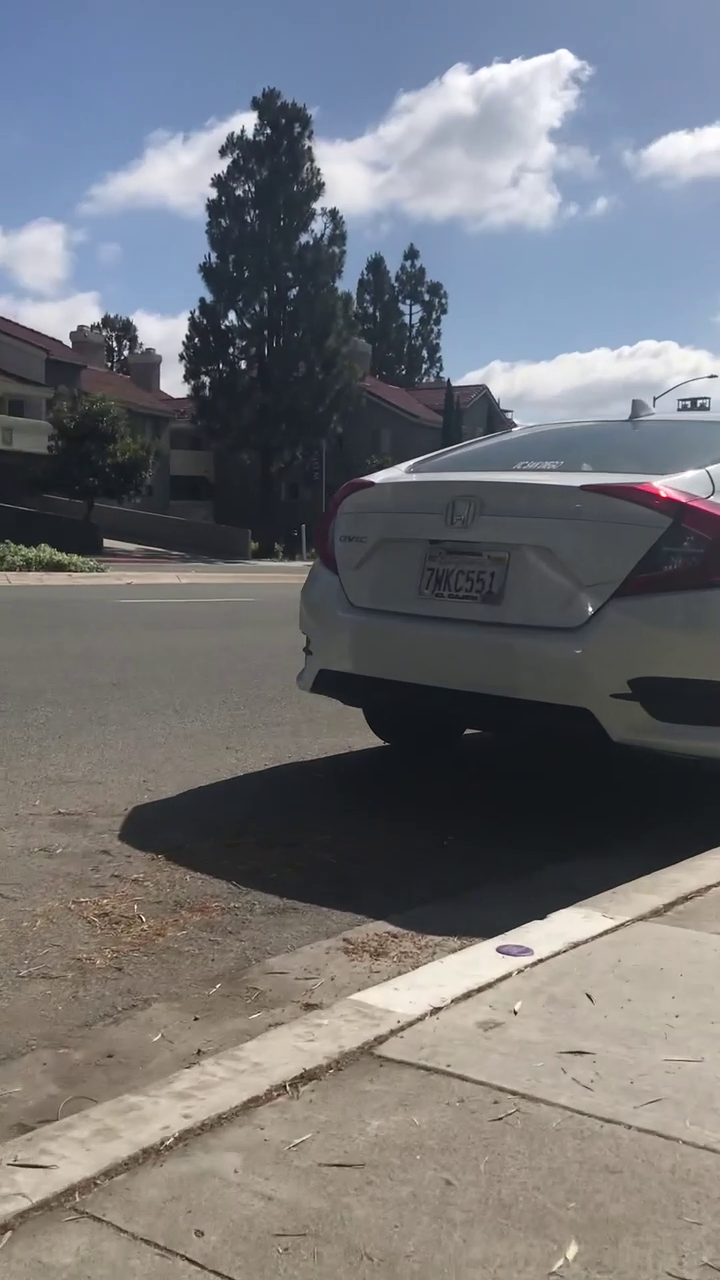car: (298, 395, 714, 820)
